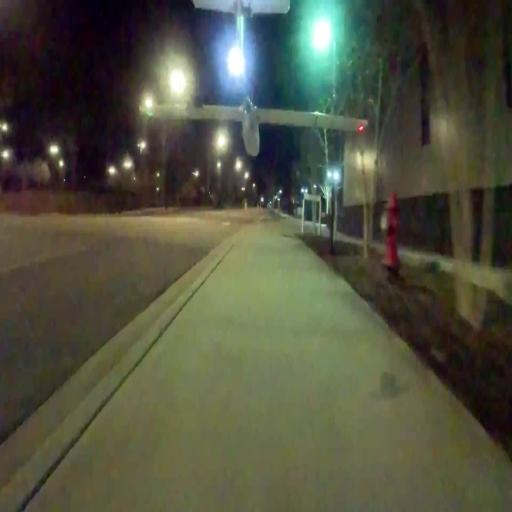uav: (143, 0, 371, 162)
